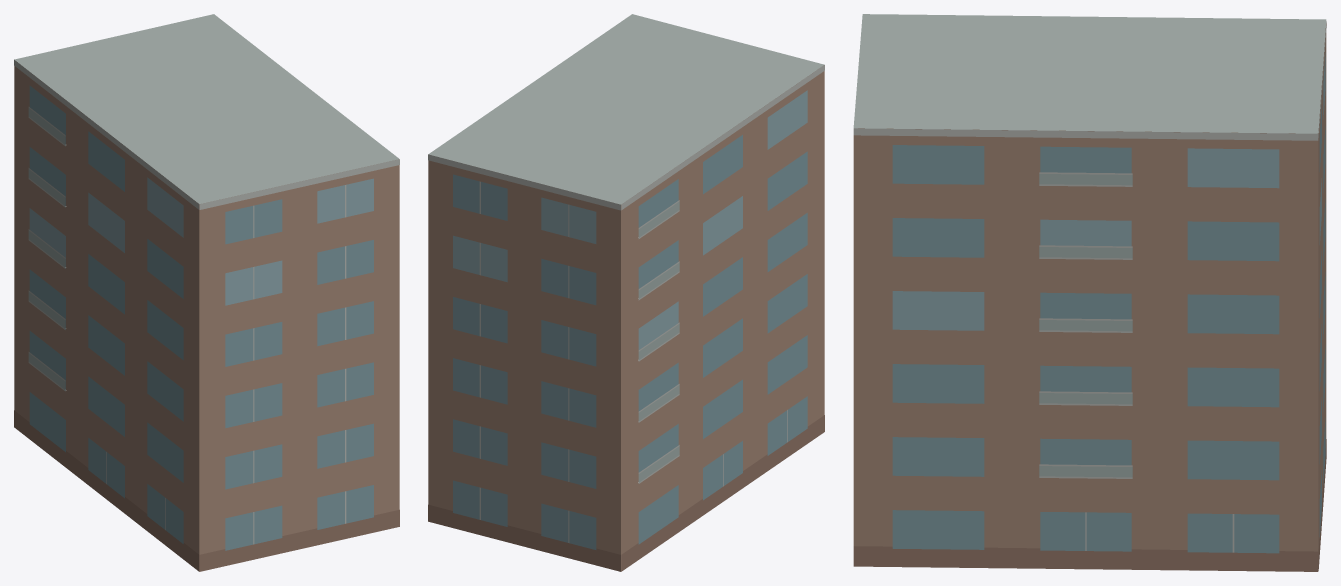
Rendered from survey-upis-32774575.glb.
3 views of the same model, side by side, from view 1: azimuth 30°, elevation 25°; view 2: azimuth 150°, elevation 25°; view 3: azimuth 270°, elevation 25° (orthographic). The views are drawn at different scales.
Visible parts, largest first — view 1: survey-upis-32774575.tmp; view 2: survey-upis-32774575.tmp; view 3: survey-upis-32774575.tmp.
Part boxes in pixels (x1,y1,x2,y2): survey-upis-32774575.tmp: (14,14,399,571); survey-upis-32774575.tmp: (428,14,824,571); survey-upis-32774575.tmp: (853,14,1326,571).
Size of the model in its own units: 8.86 by 15.1 by 14.78.
